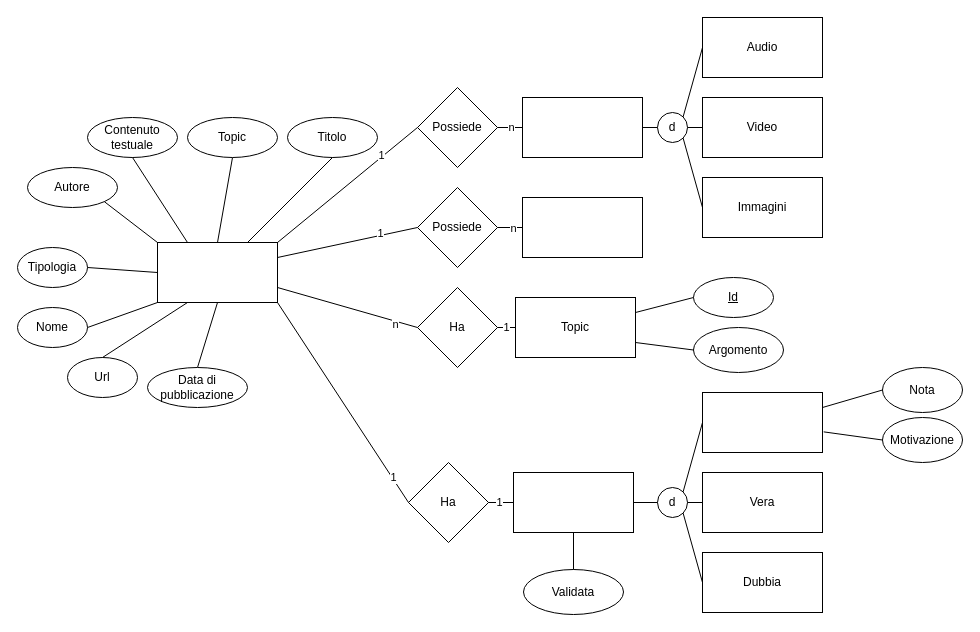
The diagram is 980 pixels wide and 632 high, and some of its shapes have lost their labels. The shapes that lost their labels are listed below. From the top down, each one's centre as x and y in pixels, then its label:
At (x=582, y=127): "Contenuto Multimediale".
At (x=582, y=227): "Commento".
At (x=217, y=272): "News".
At (x=762, y=422): "Fake".
At (x=573, y=502): "Result".
